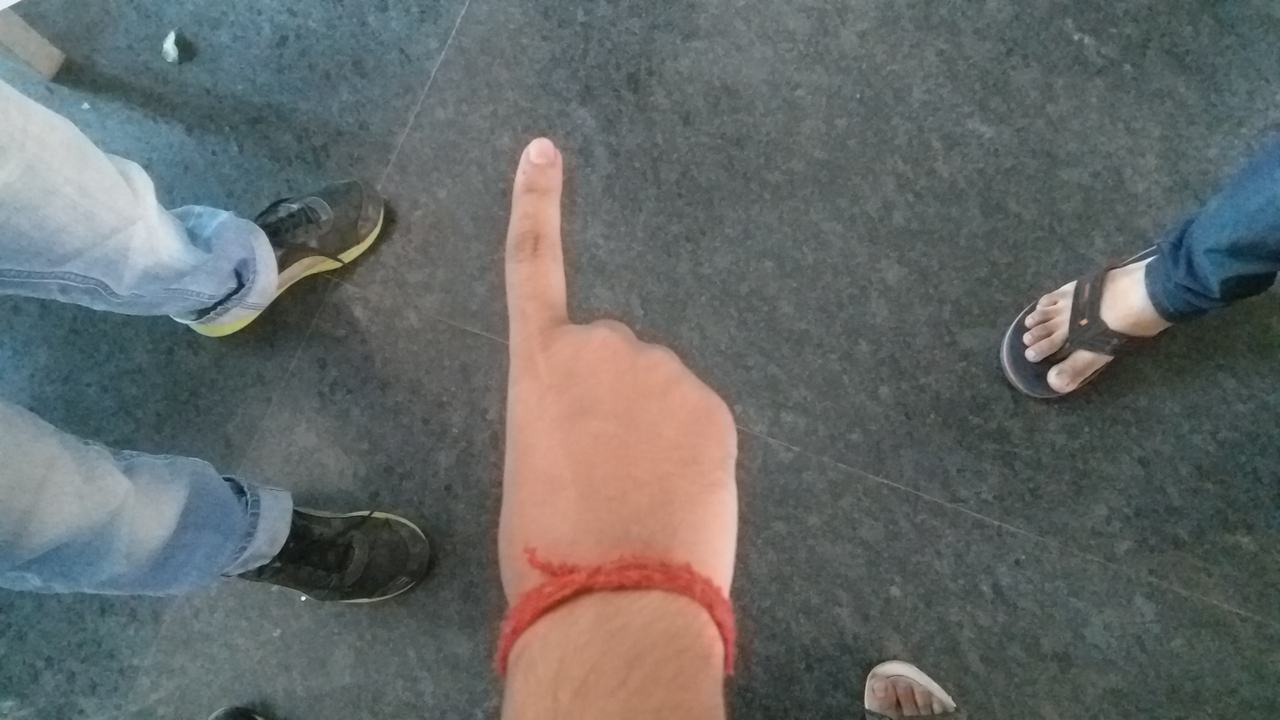fingertip: (504, 130, 566, 184)
